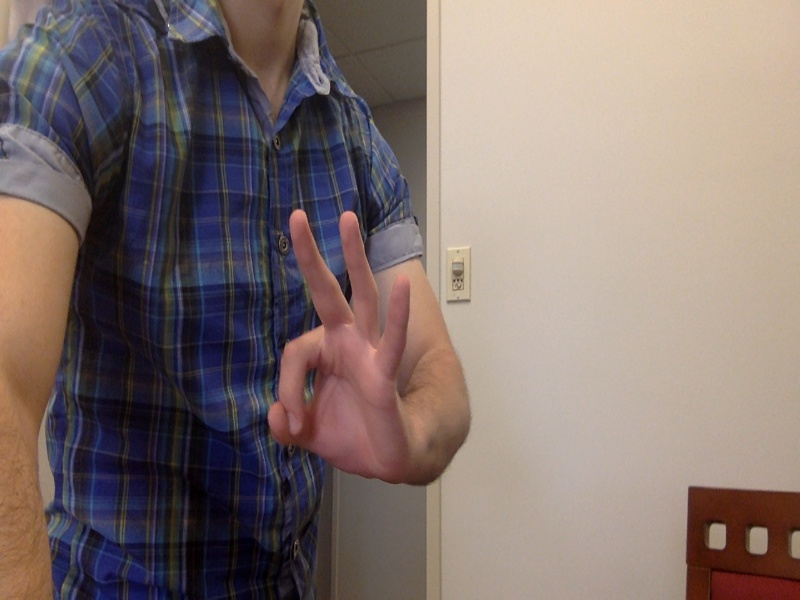3-hand: (282, 212, 418, 492)
